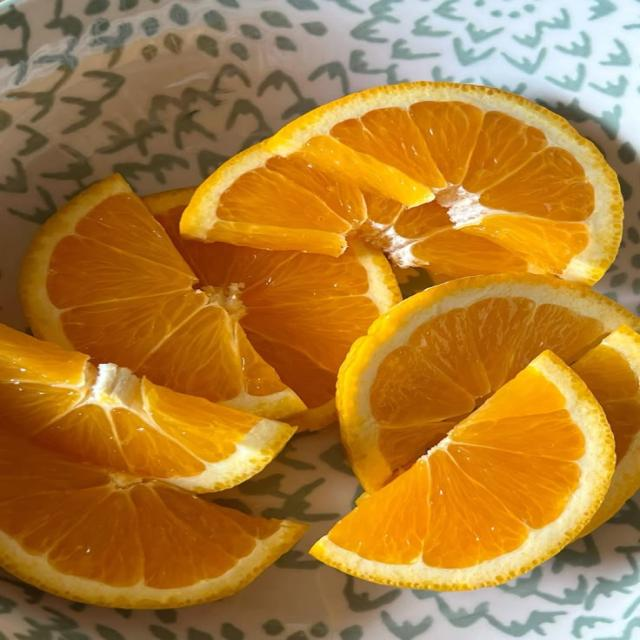orange: (181, 82, 622, 283), (311, 352, 614, 590), (21, 175, 305, 418), (337, 275, 639, 491), (143, 189, 400, 427), (0, 428, 306, 608), (0, 325, 294, 492), (573, 326, 639, 534)
